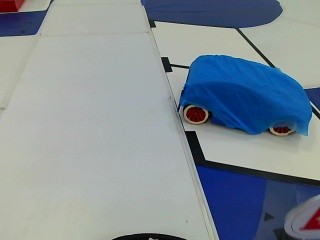car: (168, 50, 319, 139)
